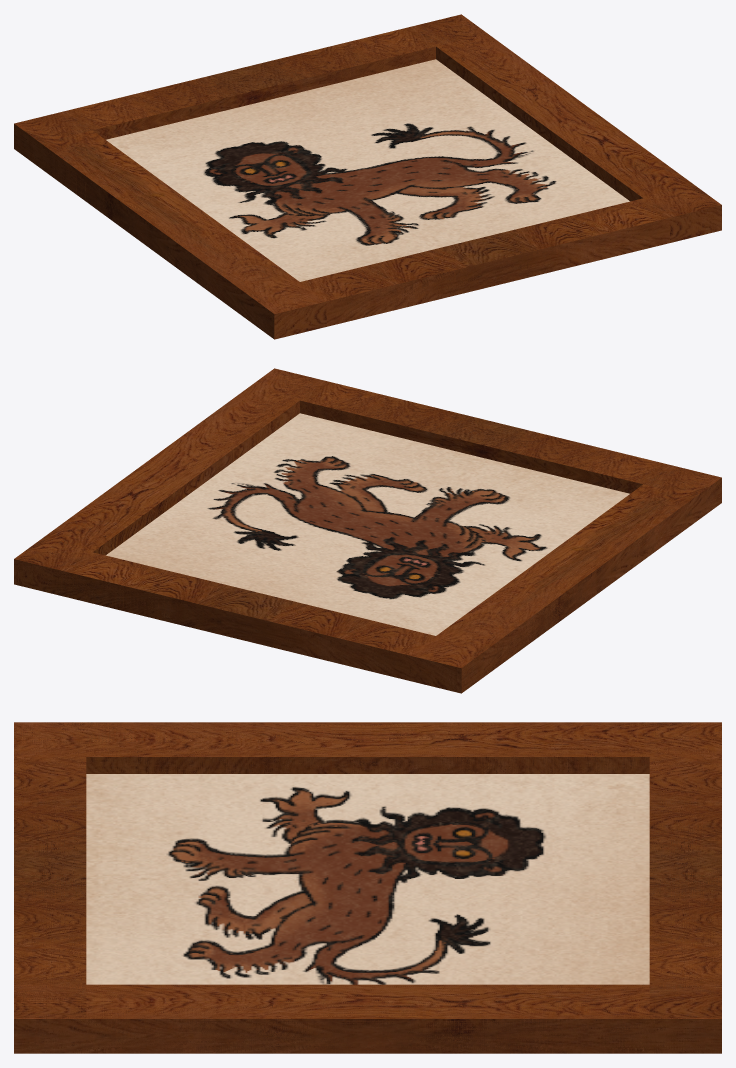
The model's file is sansonframe.glb.
3 views of the same model, one above another, from view 1: azimuth 30°, elevation 25°; view 2: azimuth 150°, elevation 25°; view 3: azimuth 270°, elevation 25° (orthographic). The views are drawn at different scales.
Visible parts, largest first — view 1: Cube, Plane; view 2: Cube, Plane; view 3: Plane, Cube.
Boxes of the visible parts, box(x1,y1,x2,y2) form: Cube: box(14, 14, 721, 339); Plane: box(106, 59, 629, 281); Cube: box(14, 368, 721, 693); Plane: box(106, 413, 629, 635); Plane: box(86, 774, 649, 984); Cube: box(14, 722, 721, 1053).
Bounding box in the file's own units: 0.6057 × 0.0328 × 0.6107.
2 materials, 2 textured.
